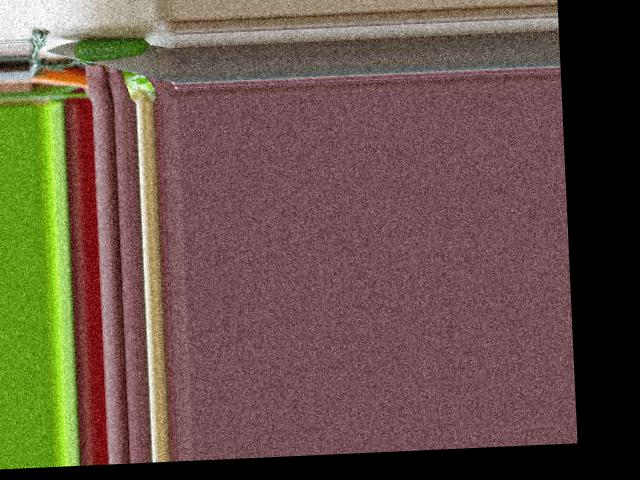cucumber: (72, 35, 149, 61)
